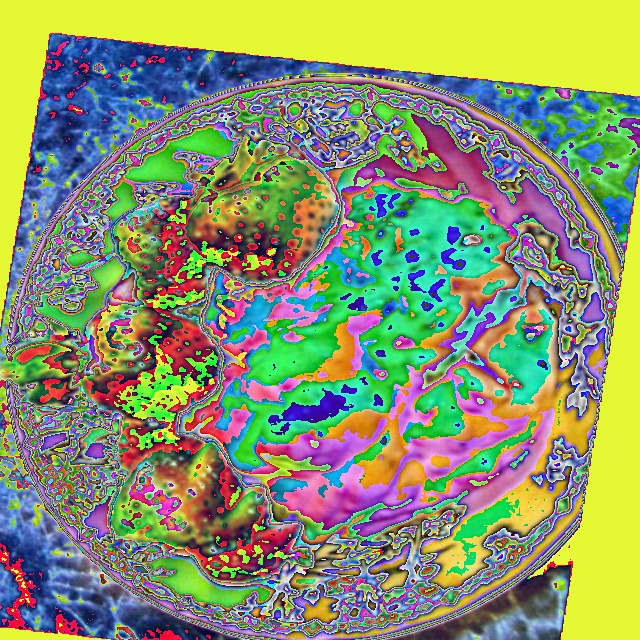background: (0, 130, 563, 586)
